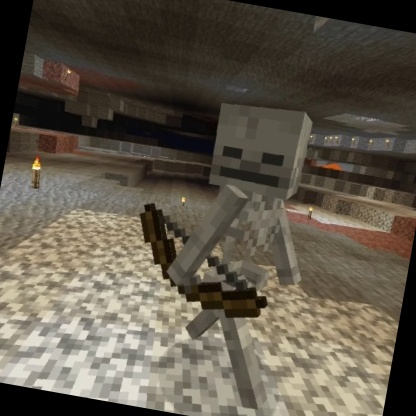skeleton: (106, 81, 336, 416)
